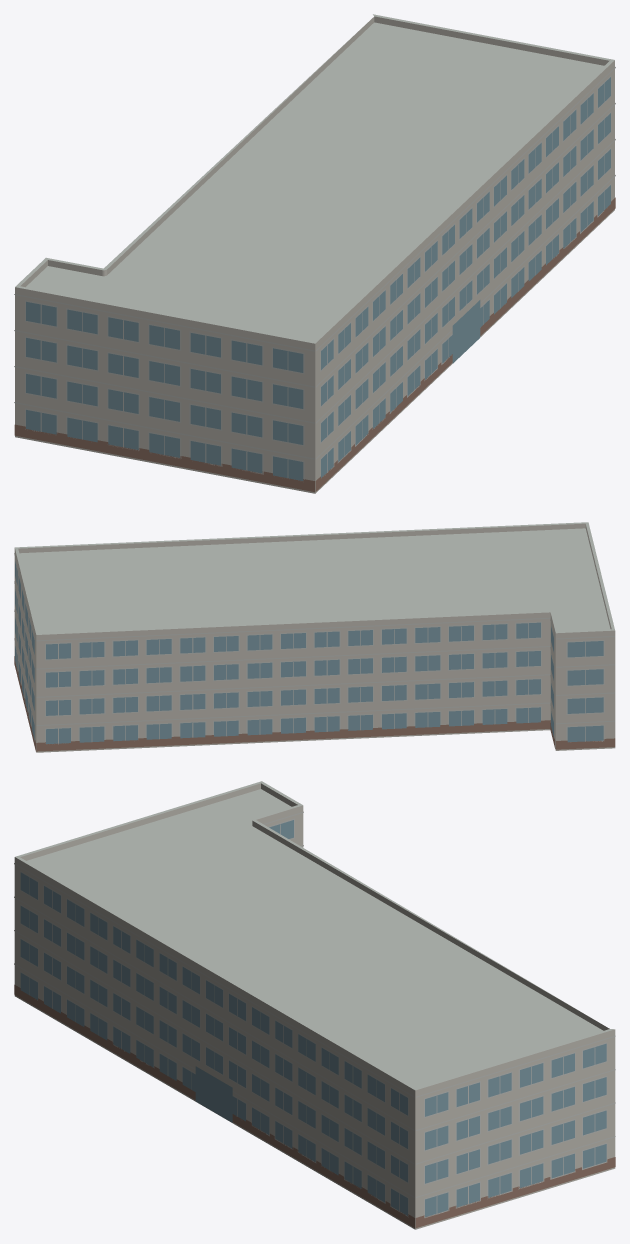
File: public-6c9f0e7f-4d7d-47bd-91f2-8faef04605cb.glb
3 renders of one model, top to bottom at view 1: azimuth 30°, elevation 25°; view 2: azimuth 150°, elevation 25°; view 3: azimuth 270°, elevation 25°, orthographic. The views are drawn at different scales.
Visible parts, largest first — view 1: public-6c9f0e7f-4d7d-47bd-91f2-8faef04605cb; view 2: public-6c9f0e7f-4d7d-47bd-91f2-8faef04605cb; view 3: public-6c9f0e7f-4d7d-47bd-91f2-8faef04605cb.
Part boxes in pixels (bbox=[...]): public-6c9f0e7f-4d7d-47bd-91f2-8faef04605cb: bbox=[14, 14, 615, 493]; public-6c9f0e7f-4d7d-47bd-91f2-8faef04605cb: bbox=[14, 522, 615, 752]; public-6c9f0e7f-4d7d-47bd-91f2-8faef04605cb: bbox=[14, 781, 615, 1229].
Bounding box in the file's own units: 58.2 × 12.2 × 47.77.
